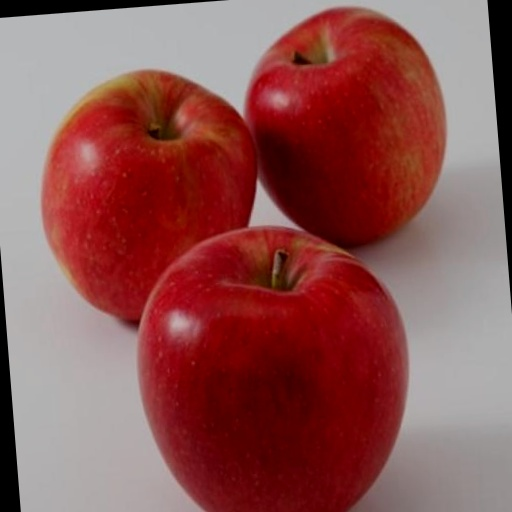fruit: (138, 228, 408, 512), (42, 71, 256, 319), (246, 8, 446, 243)
